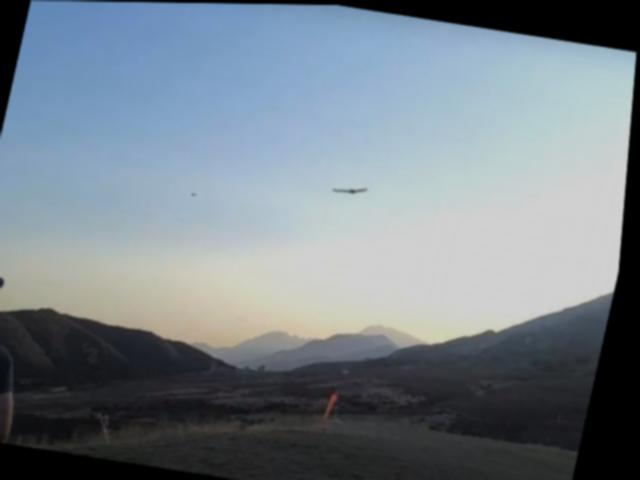iha: (333, 178, 370, 201)
